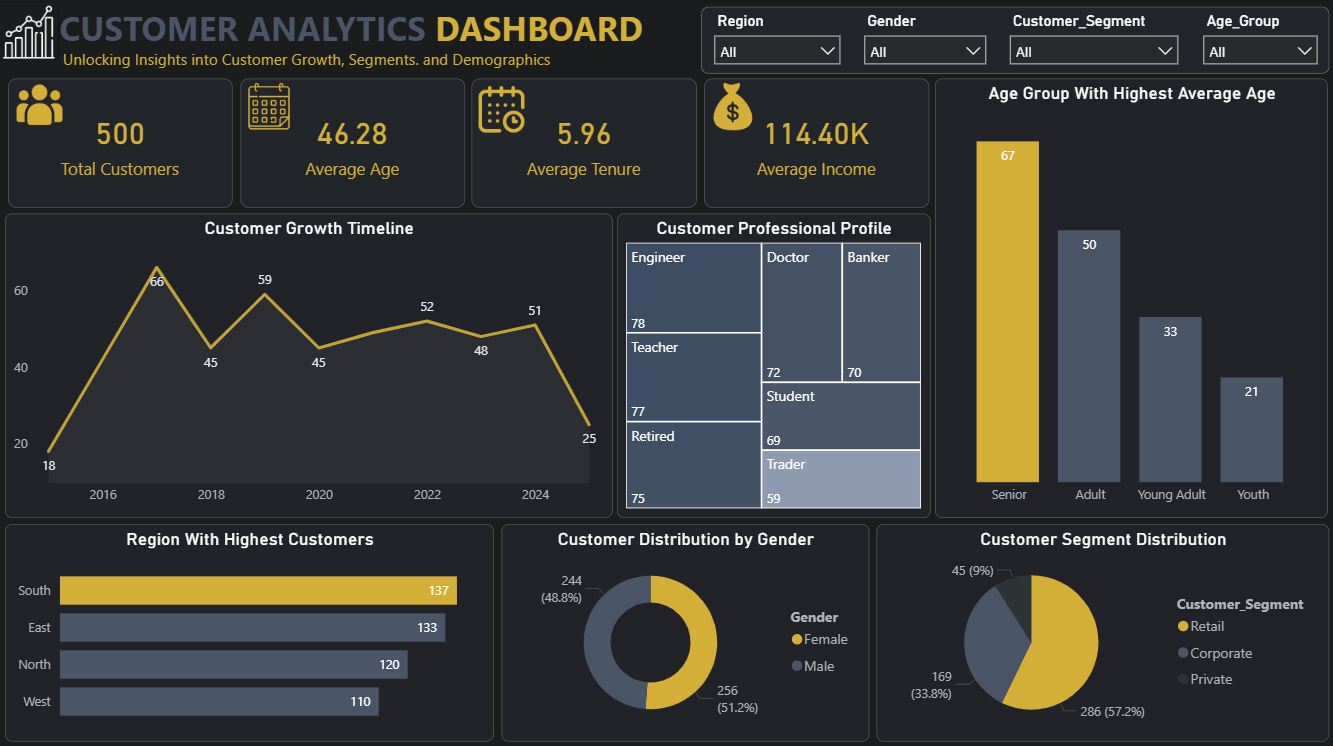

What the dashboard file says about the page in this screenshot:
{"tool":"powerbi","page":{"name":"Dashboard","canvas":[1280,720],"ordinal":2},"visuals":[{"type":"textbox","box":[0,0,640,64.7],"z":0},{"type":"textbox","box":[0,41.7,543.6,34.5],"z":1000},{"type":"card","fields":{"Values":["Customer Segmentation Analysis.Total Customers"]},"box":[8.6,76.2,215,124],"z":2000},{"type":"shape","box":[673,7.2,602.6,64.7],"z":3000},{"type":"card","fields":{"Values":["Customer Segmentation Analysis.Average Age"]},"box":[231.5,76.2,215,124],"z":4000},{"type":"card","fields":{"Values":["Customer Segmentation Analysis.Average Tenure"]},"box":[453,76.2,215.7,124],"z":5000},{"type":"card","fields":{"Values":["Customer Segmentation Analysis.Average Income"]},"box":[675.9,76.2,215.7,124],"z":6000},{"type":"areaChart","title":"Customer Growth Timeline","fields":{"Category":["Customer Segmentation Analysis.Join_Date.Variation.Date Hierarchy.Year"],"Y":["Customer Segmentation Analysis.Total Customers"]},"box":[5.8,205.7,582.4,291.9],"z":7000},{"type":"columnChart","title":"Age Group With  Highest Average Age","fields":{"Category":["Customer Segmentation Analysis.Age_Group"],"Y":["Customer Segmentation Analysis.Average Age"]},"box":[897.4,76.2,376.8,421.4],"z":8000},{"type":"barChart","title":"Region With Highest Customers","fields":{"Category":["Customer Segmentation Analysis.Region"],"Y":["Customer Segmentation Analysis.Total Customers"]},"box":[5.8,503.3,468.8,208.5],"z":9000},{"type":"donutChart","title":"Customer Distribution by Gender","fields":{"Category":["Customer Segmentation Analysis.Gender"],"Y":["Customer Segmentation Analysis.Total Customers"]},"box":[481.8,503.3,352.3,208.5],"z":10000},{"type":"treemap","title":"Customer Professional Profile","fields":{"Group":["Customer Segmentation Analysis.Occupation"],"Values":["Customer Segmentation Analysis.Total Customers"]},"box":[592.5,205.7,300.6,291.9],"z":11000},{"type":"pieChart","title":"Customer Segment Distribution","fields":{"Category":["Customer Segmentation Analysis.Customer_Segment"],"Y":["Customer Segmentation Analysis.Total Customers"]},"box":[841.3,503.3,434.3,208.5],"z":12000},{"type":"slicer","fields":{"Values":["Customer Segmentation Analysis.Region"]},"box":[675.9,7.2,140.9,59],"z":13000},{"type":"slicer","fields":{"Values":["Customer Segmentation Analysis.Gender"]},"box":[819.7,7.2,136.6,59],"z":14000},{"type":"slicer","fields":{"Values":["Customer Segmentation Analysis.Customer_Segment"]},"box":[959.2,7.2,181.2,59],"z":15000},{"type":"slicer","fields":{"Values":["Customer Segmentation Analysis.Age_Group"]},"box":[1144.7,7.2,129.4,59],"z":16000},{"type":"image","box":[0,5.8,57.5,51.8],"z":17000},{"type":"image","box":[11.5,79.1,54.6,44.6],"z":18000},{"type":"image","box":[231.5,80.5,54.6,44.6],"z":19000},{"type":"image","box":[454.4,83.4,54.6,44.6],"z":20000},{"type":"image","box":[675.9,80.5,55,45],"z":21000}]}

Visuals, with their boxes in screenshot pixels (x1, y1, x2, y2), scaled from the page's 1280x720 canvas onto the 1333x746 screenshot:
textbox: [0, 0, 666, 67]
textbox: [0, 43, 566, 79]
card - Customer Segmentation Analysis.Total Customers: [9, 79, 233, 207]
shape: [701, 7, 1328, 74]
card - Customer Segmentation Analysis.Average Age: [241, 79, 465, 207]
card - Customer Segmentation Analysis.Average Tenure: [472, 79, 696, 207]
card - Customer Segmentation Analysis.Average Income: [704, 79, 929, 207]
"Customer Growth Timeline" areaChart: [6, 213, 613, 516]
"Age Group With  Highest Average Age" columnChart: [935, 79, 1327, 516]
"Region With Highest Customers" barChart: [6, 521, 494, 738]
"Customer Distribution by Gender" donutChart: [502, 521, 869, 738]
"Customer Professional Profile" treemap: [617, 213, 930, 516]
"Customer Segment Distribution" pieChart: [876, 521, 1328, 738]
slicer - Customer Segmentation Analysis.Region: [704, 7, 851, 69]
slicer - Customer Segmentation Analysis.Gender: [854, 7, 996, 69]
slicer - Customer Segmentation Analysis.Customer_Segment: [999, 7, 1188, 69]
slicer - Customer Segmentation Analysis.Age_Group: [1192, 7, 1327, 69]
image: [0, 6, 60, 60]
image: [12, 82, 69, 128]
image: [241, 83, 298, 130]
image: [473, 86, 530, 133]
image: [704, 83, 761, 130]
